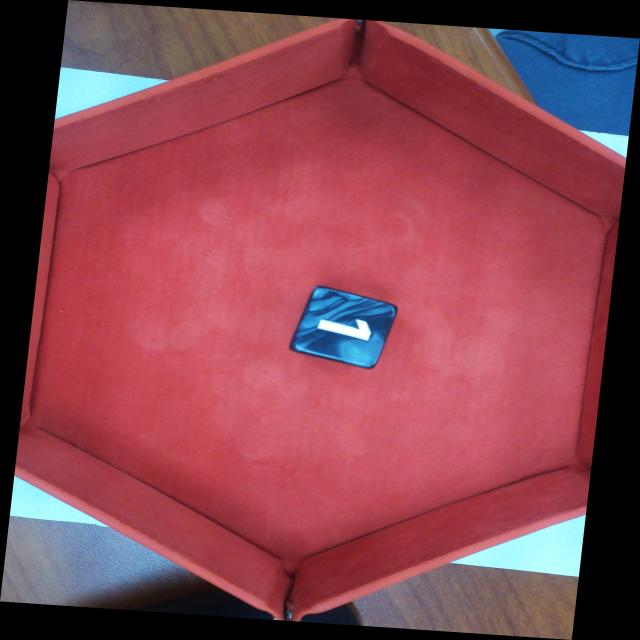dice: (288, 284, 406, 372)
